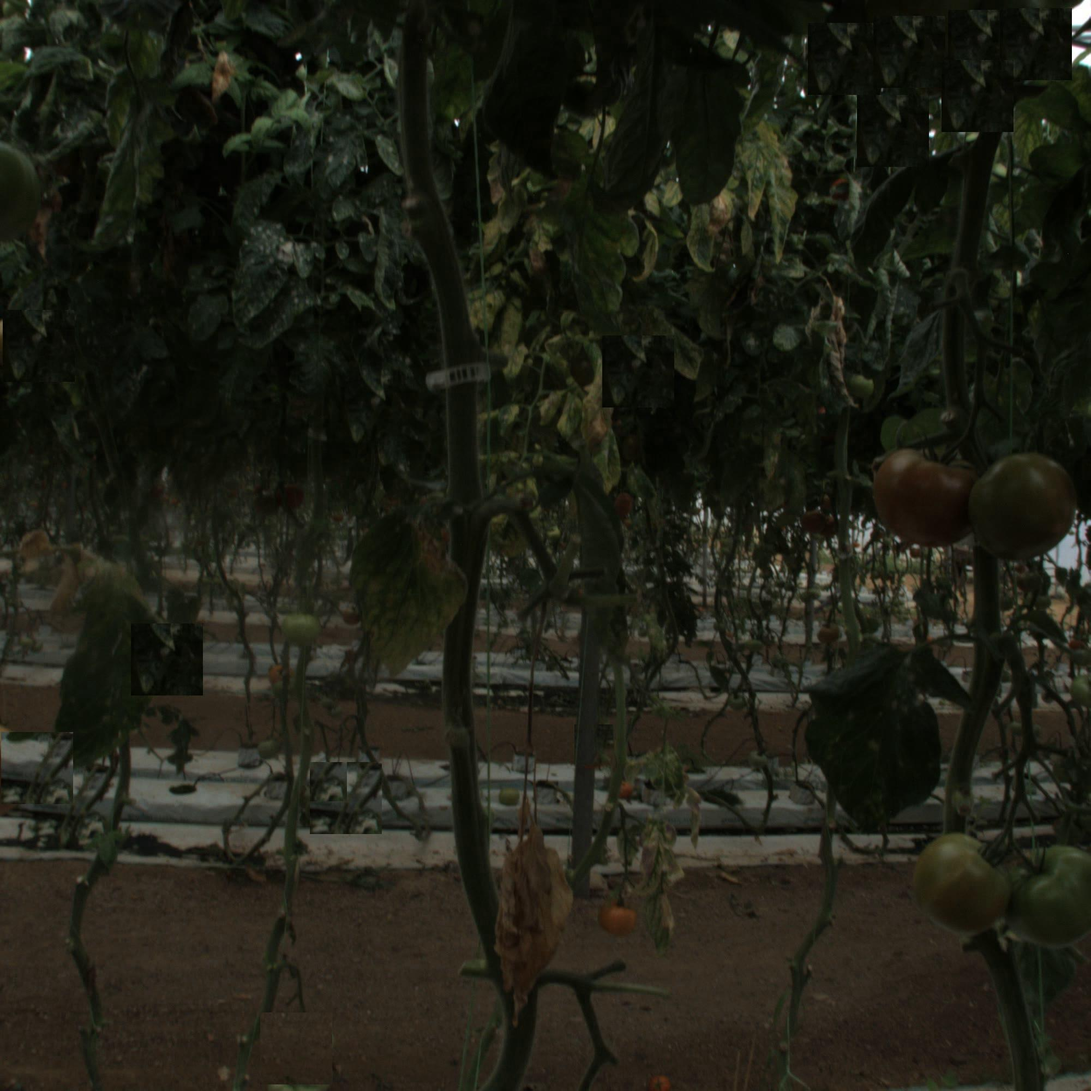fully-ripe: (600, 898, 641, 940)
semi-ripe: (875, 443, 978, 546), (975, 455, 1077, 558)
unripe: (909, 835, 1011, 937), (1006, 853, 1089, 936), (280, 609, 325, 654)
